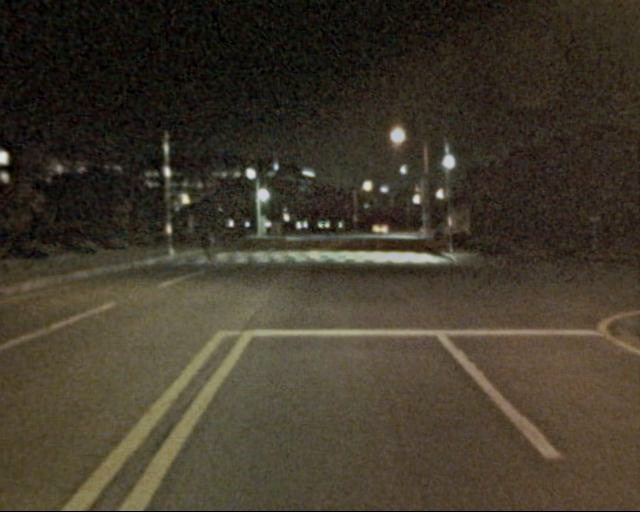person: (197, 227, 217, 274)
